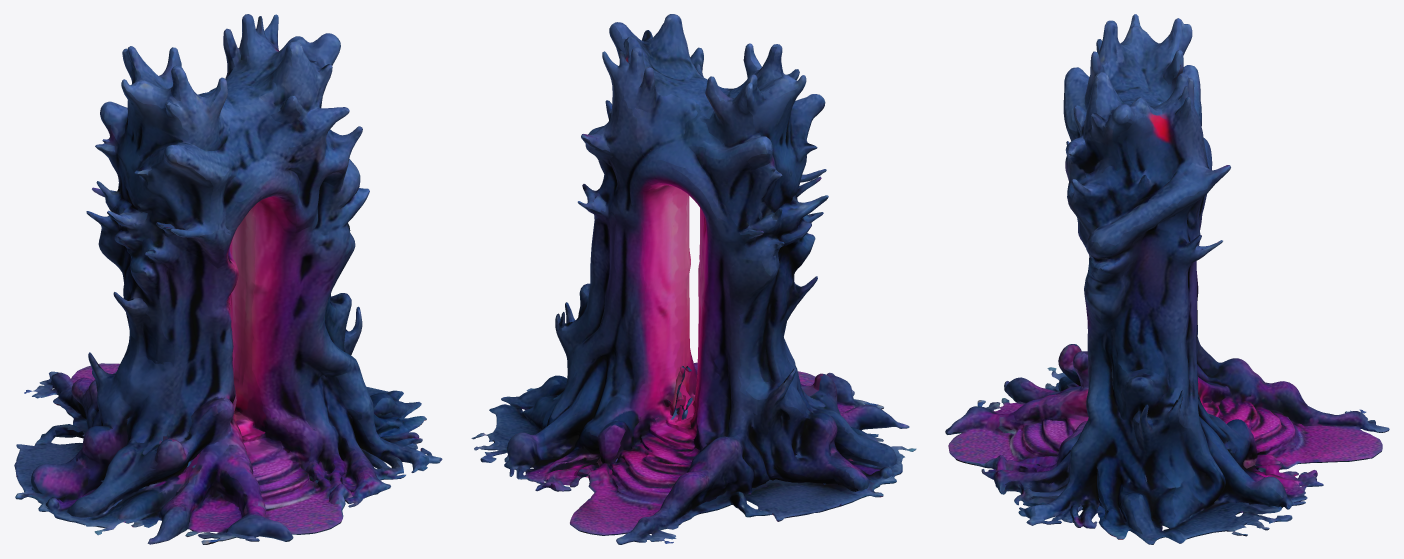
The model's file is root-northeast-generated-2026-04-19T17-10-26-920Z.high.glb.
3 renders of one model, left to right at view 1: azimuth 30°, elevation 25°; view 2: azimuth 150°, elevation 25°; view 3: azimuth 270°, elevation 25°, orthographic. The views are drawn at different scales.
Parts seen in each view (by area): view 1: temp_mesh.ply; view 2: temp_mesh.ply; view 3: temp_mesh.ply.
Part boxes in pixels (x1,y1,x2,y2): temp_mesh.ply: (14, 14, 442, 544); temp_mesh.ply: (471, 14, 916, 544); temp_mesh.ply: (945, 14, 1389, 544).
Size of the model in its own units: 1.97 by 1.97 by 1.97.
Materials: 1 (1 with a texture image).
